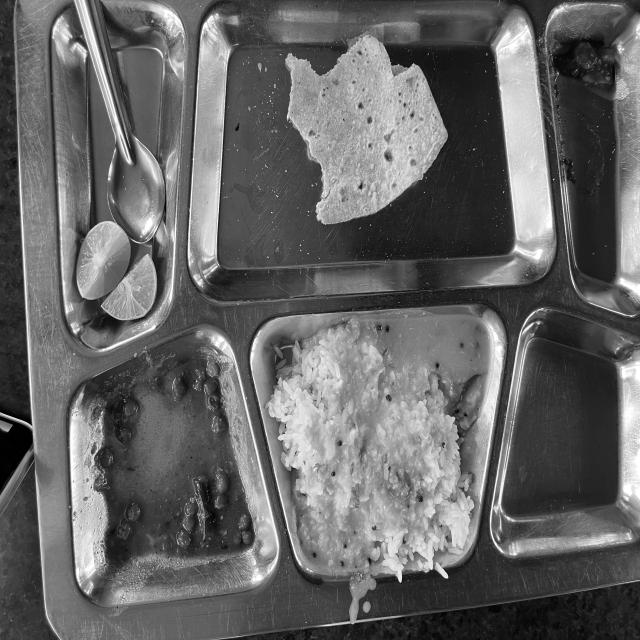20-Food-Left: (35, 0, 635, 590)
